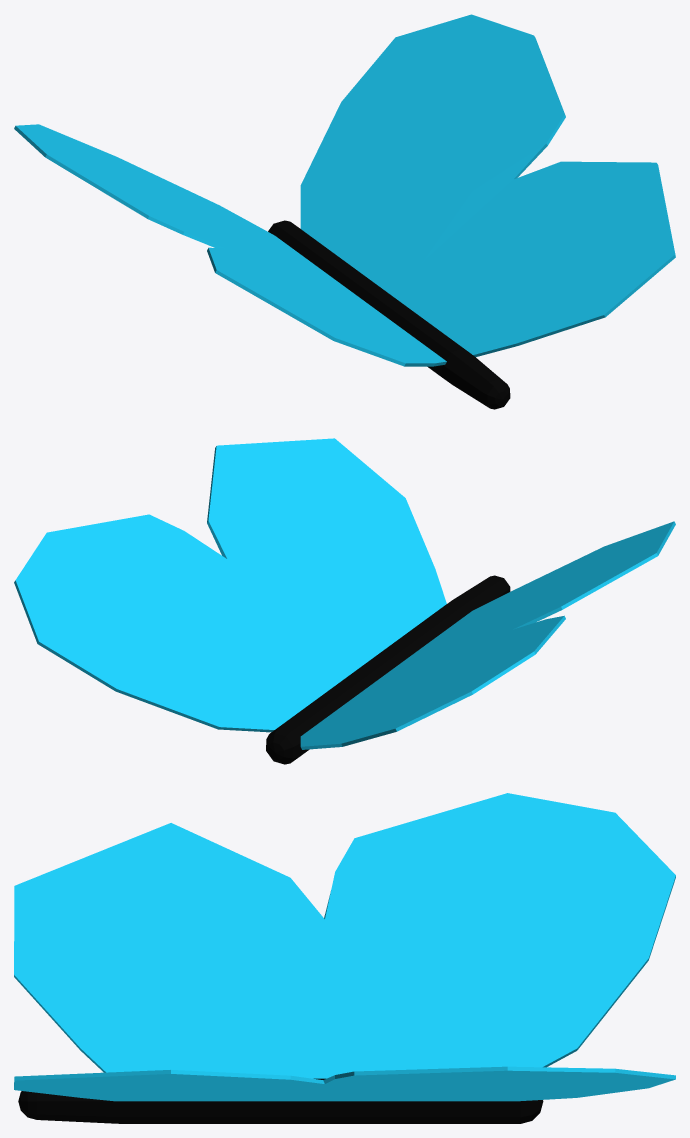
File: stm_prop_butterfly.fbx
3 renders of one model, top to bottom at view 1: azimuth 30°, elevation 25°; view 2: azimuth 150°, elevation 25°; view 3: azimuth 270°, elevation 25°, orthographic. The views are drawn at different scales.
Visible parts, largest first — view 1: Butterfly_1; view 2: Butterfly_1; view 3: Butterfly_1.
Boxes of the visible parts, x1,y1,x2,y2 form: Butterfly_1: [14, 14, 675, 409]; Butterfly_1: [14, 438, 675, 764]; Butterfly_1: [14, 793, 675, 1123].
Size of the model in its own units: 1443 by 466 by 1466.
